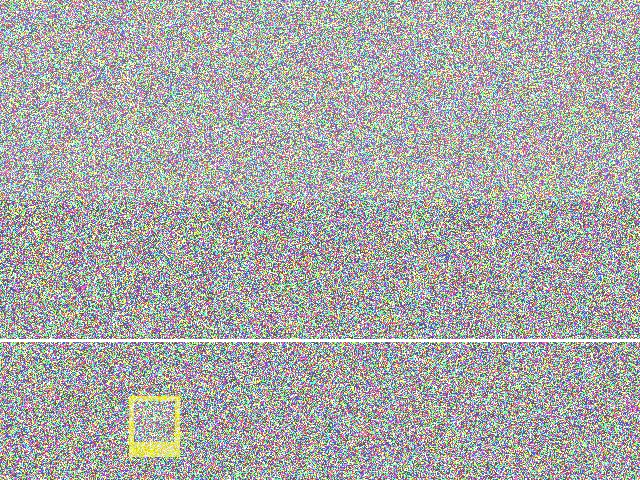car: (110, 340, 262, 396)
truck: (175, 282, 355, 412)
